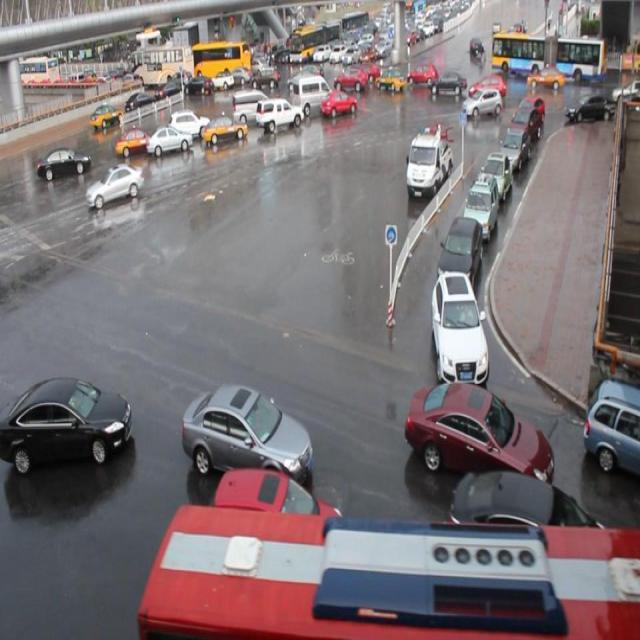BigCar: (479, 19, 601, 83)
car: (404, 371, 563, 499), (181, 374, 321, 496), (1, 375, 135, 475), (418, 268, 497, 378), (399, 119, 458, 205), (79, 156, 146, 211), (436, 208, 484, 284), (33, 136, 90, 182), (463, 168, 500, 238), (561, 92, 614, 139), (251, 98, 307, 136), (462, 81, 503, 129), (199, 113, 246, 154), (315, 82, 358, 125), (144, 121, 190, 161), (110, 120, 150, 158), (371, 63, 409, 103), (428, 65, 466, 103), (406, 53, 441, 94), (333, 63, 368, 99), (170, 109, 208, 142)
